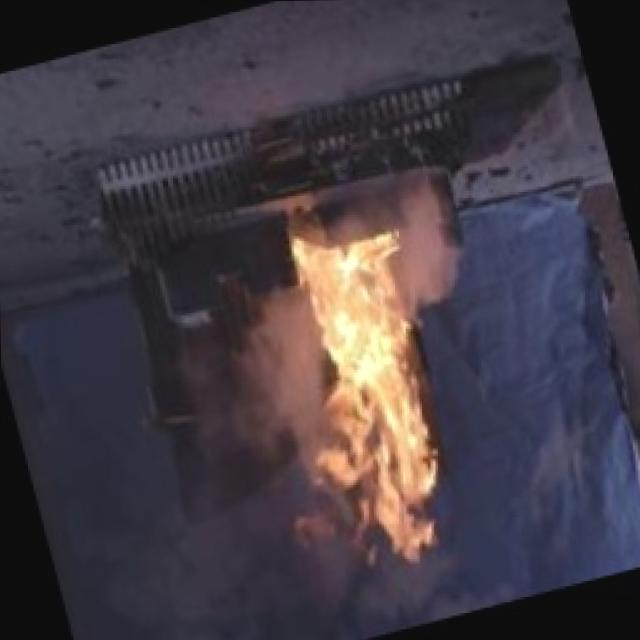fire: (201, 170, 494, 617)
